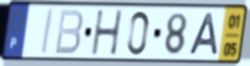0: (126, 10, 150, 57)
8: (164, 12, 191, 56)
A: (187, 12, 220, 57)
B: (53, 9, 85, 57)
H: (90, 9, 124, 57)
I: (39, 8, 56, 57)
